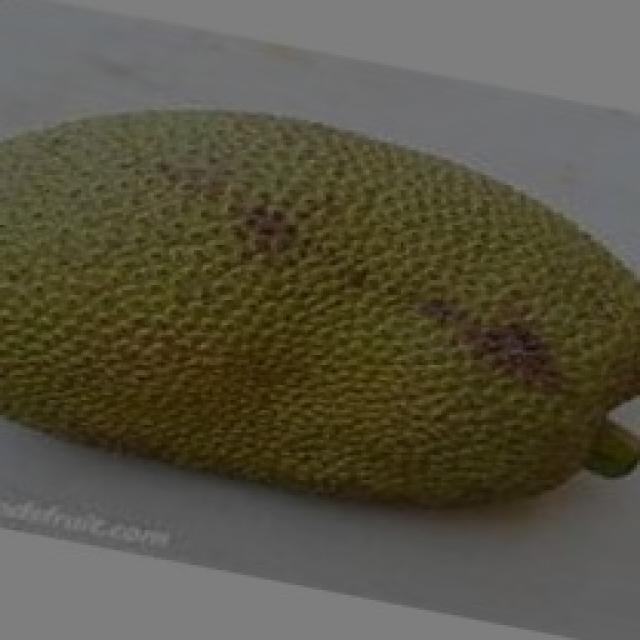Fruit: (0, 85, 406, 507), (255, 138, 640, 562)
